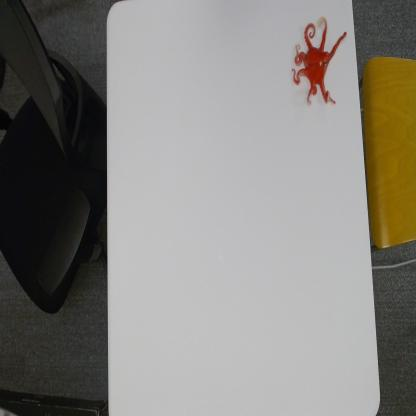Octopus: (291, 11, 349, 108)
